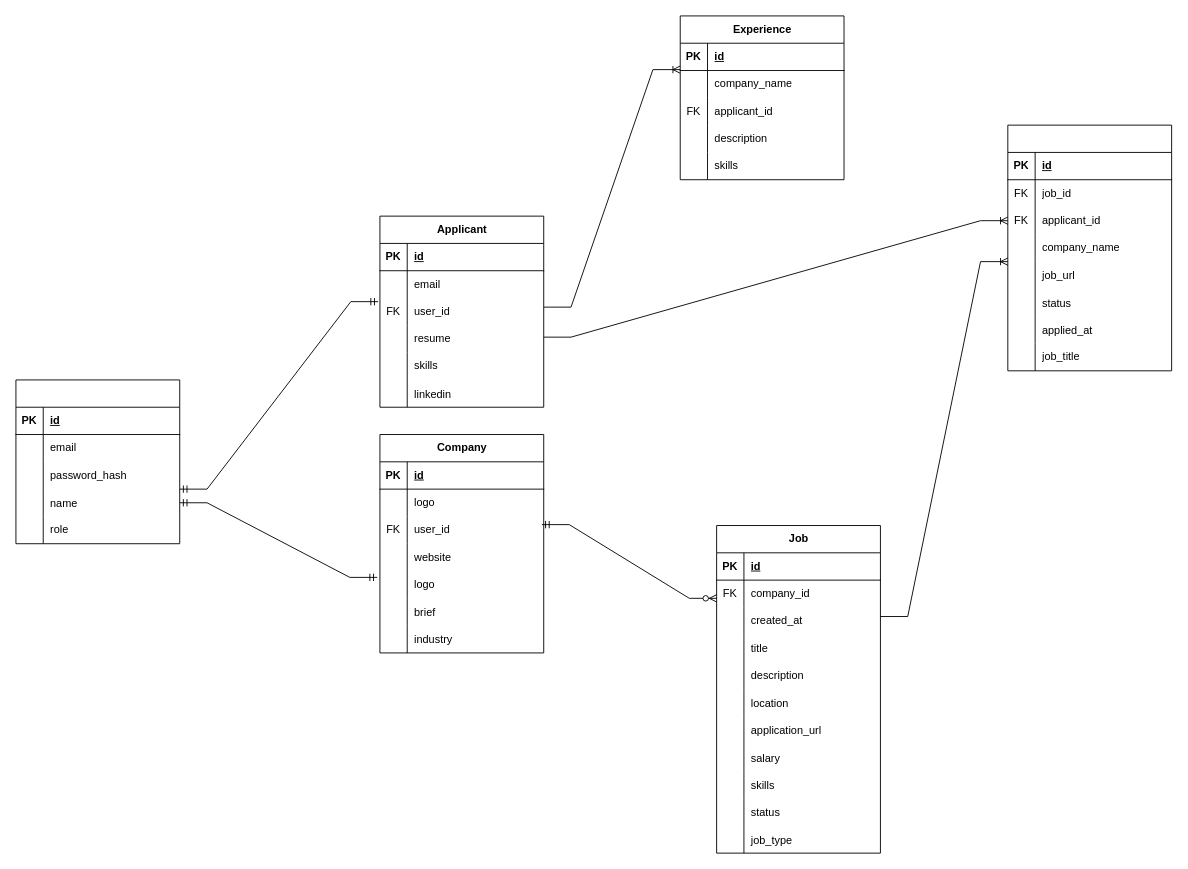
The diagram is 1188 pixels wide and 869 high, and some of its shapes have lost their labels. Each missing label, with the box of its shape:
JobApplication: (1007, 124, 1172, 371)
User: (15, 379, 180, 544)
